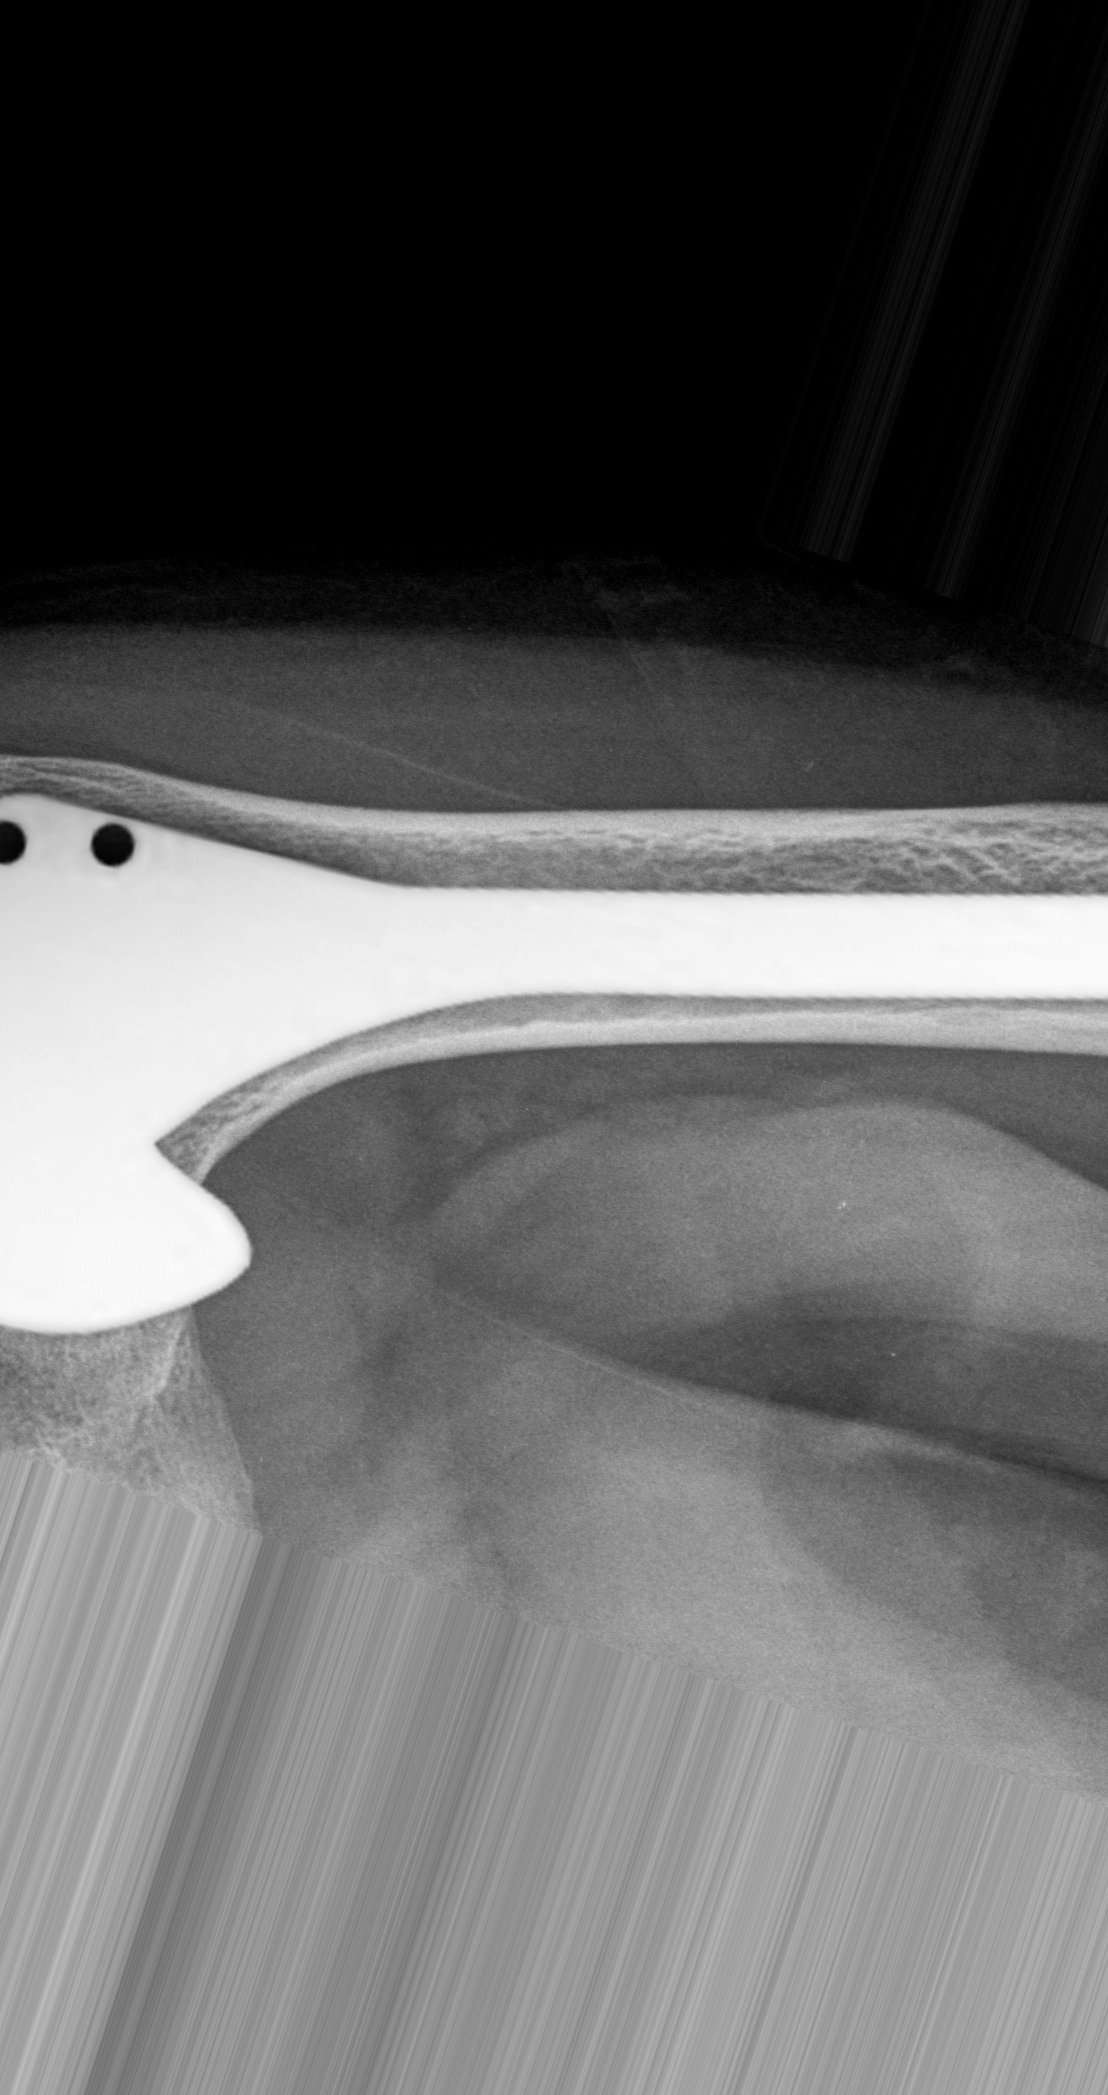Shoulder - Aequalistail - Tornier: (1, 770, 488, 1233)
